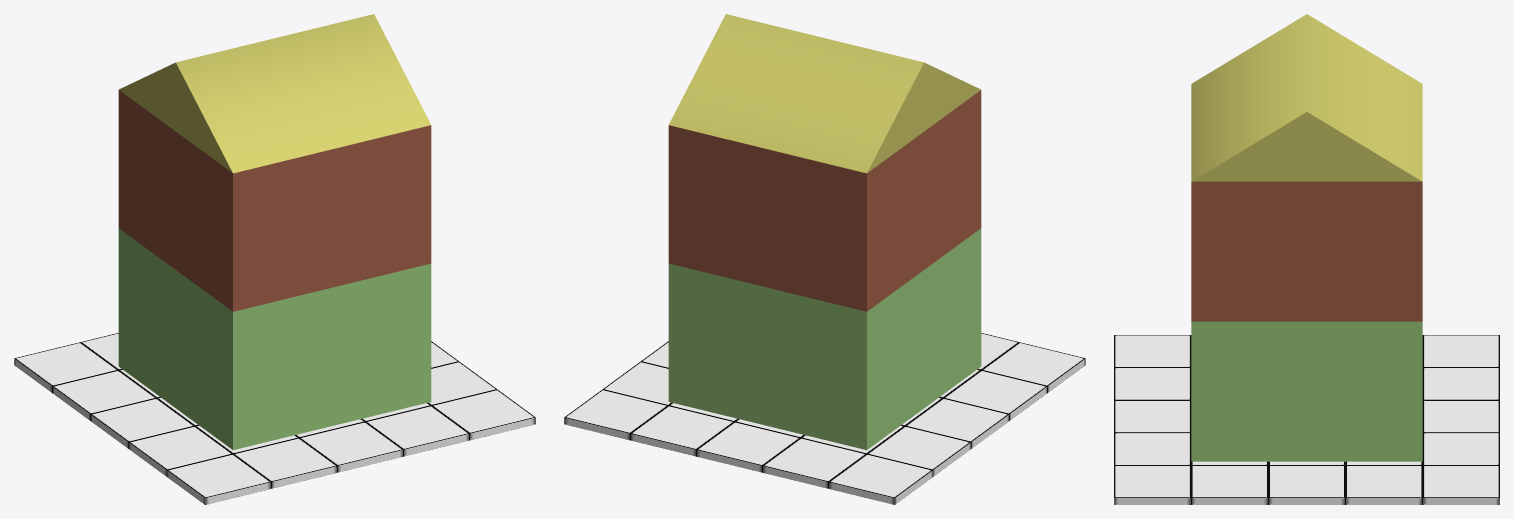
The model's file is XG_Field-Hut.glb.
The picture shows the model from 3 angles, left to right: view 1: azimuth 30°, elevation 25°; view 2: azimuth 150°, elevation 25°; view 3: azimuth 270°, elevation 25°; orthographic projection.
Parts seen in each view (by area): view 1: building_3m_3m_007, 1m_base_block_2954, 1m_base_block_2939, 1m_base_block_2949, 1m_base_block_2944, 1m_base_block_2934, 1m_base_block_2950, 1m_base_block_2951, 1m_base_block_2952, 1m_base_block_2953, 1m_base_block_2933, 1m_base_block_2945; view 2: building_3m_3m_007, 1m_base_block_2950, 1m_base_block_2935, 1m_base_block_2945, 1m_base_block_2940, 1m_base_block_2930, 1m_base_block_2954, 1m_base_block_2951, 1m_base_block_2952, 1m_base_block_2953, 1m_base_block_2931, 1m_base_block_2949; view 3: building_3m_3m_007, 1m_base_block_2930, 1m_base_block_2931, 1m_base_block_2932, 1m_base_block_2933, 1m_base_block_2934, 1m_base_block_2935, 1m_base_block_2939, 1m_base_block_2940, 1m_base_block_2944, 1m_base_block_2950, 1m_base_block_2954 (+2 smaller).
Boxes of the visible parts, x1,y1,x2,y2 form: building_3m_3m_007: (118, 14, 431, 450); 1m_base_block_2954: (167, 454, 271, 504); 1m_base_block_2939: (365, 405, 469, 456); 1m_base_block_2949: (233, 438, 337, 488); 1m_base_block_2944: (299, 422, 403, 472); 1m_base_block_2934: (432, 389, 535, 440); 1m_base_block_2950: (14, 342, 118, 392); 1m_base_block_2951: (52, 370, 156, 420); 1m_base_block_2952: (90, 398, 194, 448); 1m_base_block_2953: (128, 426, 232, 476); 1m_base_block_2933: (428, 361, 496, 405); 1m_base_block_2945: (80, 333, 121, 369); building_3m_3m_007: (668, 14, 981, 450); 1m_base_block_2950: (828, 454, 932, 504); 1m_base_block_2935: (630, 405, 734, 456); 1m_base_block_2945: (762, 438, 866, 488); 1m_base_block_2940: (696, 422, 800, 472); 1m_base_block_2930: (564, 389, 667, 440); 1m_base_block_2954: (981, 342, 1085, 392); 1m_base_block_2951: (867, 426, 971, 476); 1m_base_block_2952: (905, 398, 1009, 448); 1m_base_block_2953: (943, 370, 1047, 420); 1m_base_block_2931: (603, 361, 671, 405); 1m_base_block_2949: (978, 333, 1019, 369); building_3m_3m_007: (1191, 14, 1422, 461); 1m_base_block_2930: (1422, 465, 1499, 504); 1m_base_block_2931: (1345, 465, 1422, 504); 1m_base_block_2932: (1268, 465, 1345, 504); 1m_base_block_2933: (1191, 465, 1268, 504); 1m_base_block_2934: (1114, 465, 1191, 504); 1m_base_block_2935: (1422, 432, 1499, 465); 1m_base_block_2939: (1114, 432, 1191, 465); 1m_base_block_2940: (1422, 400, 1499, 432); 1m_base_block_2944: (1114, 400, 1191, 432); 1m_base_block_2950: (1422, 335, 1499, 367); 1m_base_block_2954: (1114, 335, 1191, 367).
Size of the model in its own units: 5 by 5.15 by 5.
4 materials, 1 textured.
